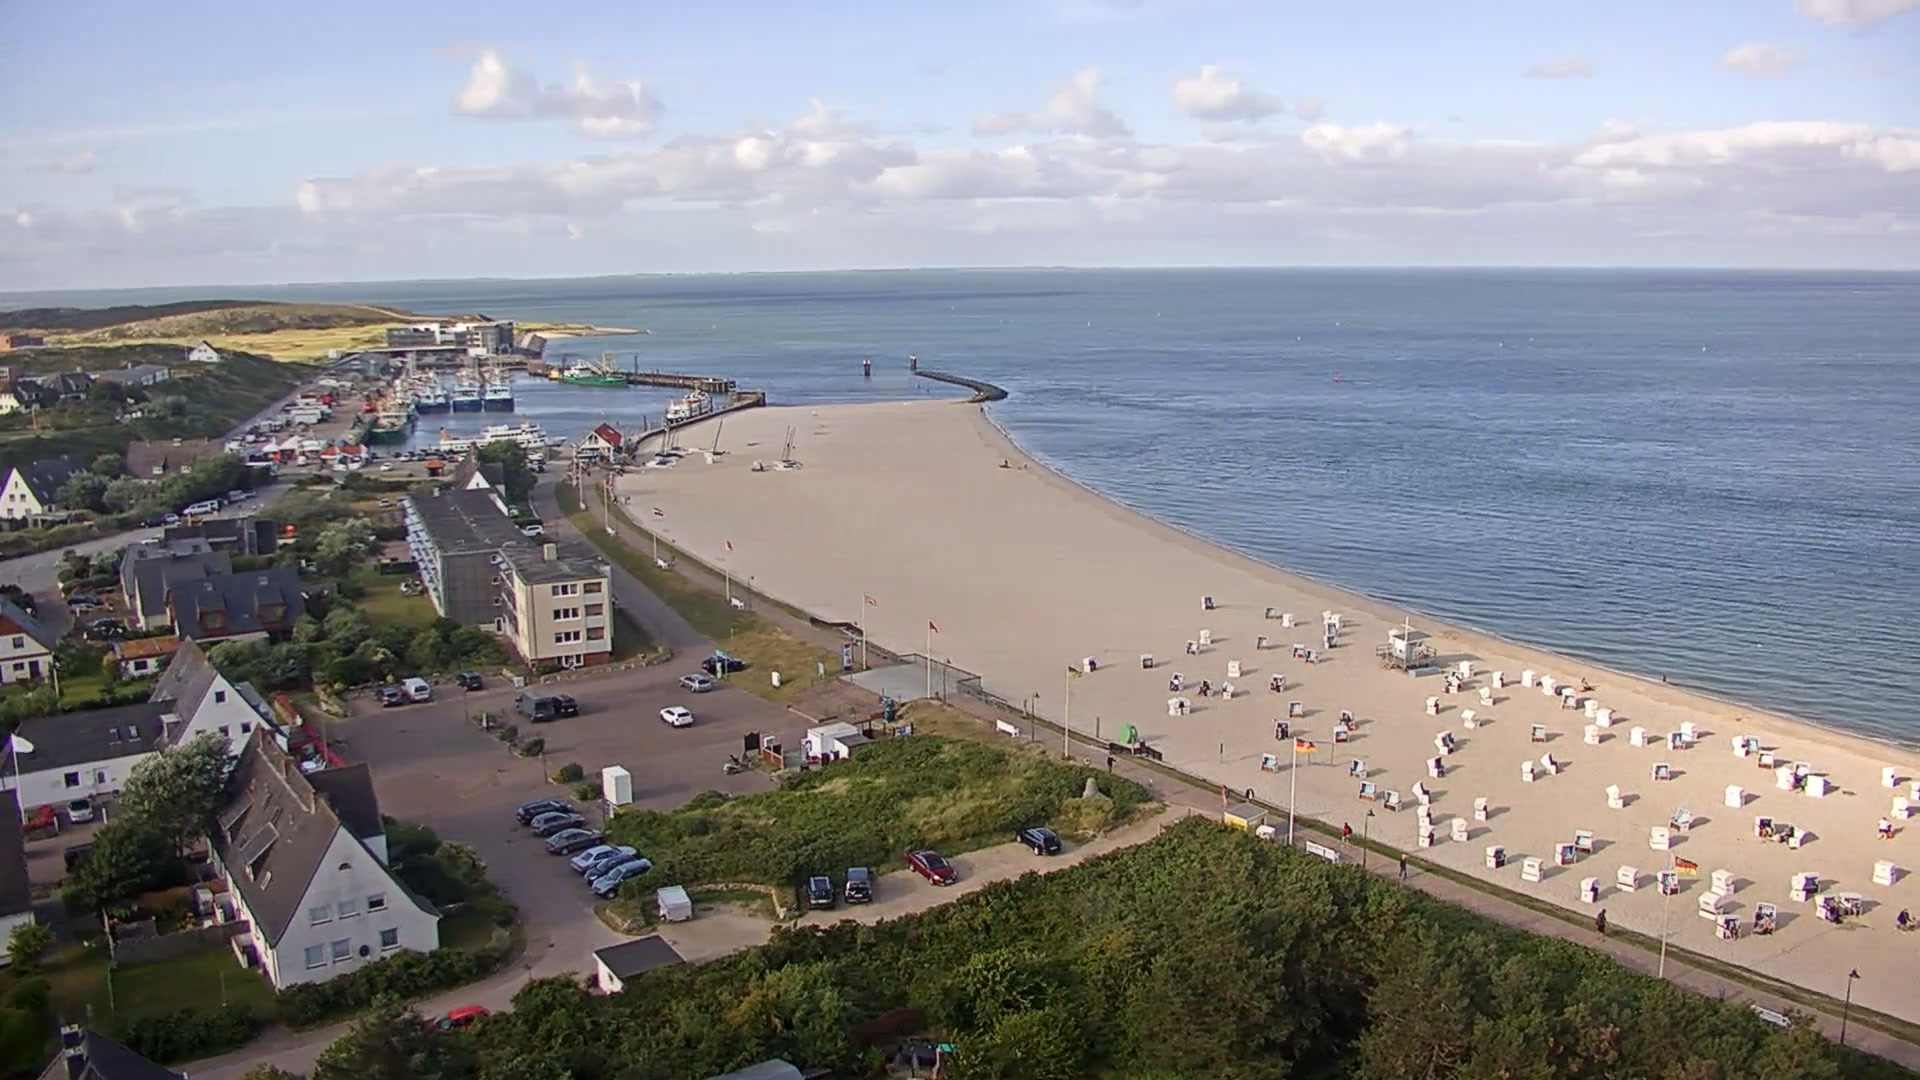human: (1595, 905, 1607, 941), (1878, 815, 1891, 840), (1778, 824, 1795, 843), (1341, 820, 1353, 847), (1753, 903, 1764, 930), (1897, 906, 1911, 930), (1765, 911, 1776, 935), (1399, 852, 1408, 879), (1760, 818, 1773, 836), (1127, 723, 1138, 744), (1244, 786, 1255, 804), (1220, 784, 1229, 808), (1105, 753, 1116, 773), (1197, 678, 1208, 696), (1730, 918, 1739, 939), (1171, 672, 1180, 690), (1909, 915, 1919, 932), (1580, 675, 1589, 690), (1662, 674, 1667, 685)
land: (590, 857, 653, 899), (568, 843, 636, 874), (426, 1003, 489, 1035), (907, 849, 957, 886), (545, 827, 605, 856), (529, 810, 584, 838), (515, 799, 574, 825), (582, 854, 632, 885), (1014, 827, 1061, 856), (514, 690, 554, 722), (802, 875, 835, 910), (844, 865, 872, 903), (659, 704, 693, 728), (399, 676, 430, 703), (65, 594, 104, 612), (66, 797, 93, 823), (550, 693, 580, 718), (701, 654, 743, 671), (678, 673, 711, 693), (374, 686, 402, 708), (455, 670, 483, 691), (86, 617, 124, 632), (182, 501, 211, 514), (136, 516, 163, 528), (520, 523, 544, 536), (226, 489, 244, 503), (160, 512, 179, 523), (198, 499, 218, 510), (296, 455, 308, 467), (243, 488, 256, 498), (381, 461, 393, 472), (351, 454, 361, 463), (399, 454, 409, 463), (458, 453, 467, 462), (415, 451, 424, 459), (418, 453, 427, 461), (371, 451, 379, 459), (435, 449, 443, 456), (419, 448, 428, 455), (448, 455, 456, 462), (395, 450, 402, 457), (447, 451, 455, 458), (407, 450, 414, 456), (438, 452, 445, 459), (448, 447, 455, 453), (434, 448, 441, 454)
sea: (435, 418, 568, 451), (561, 351, 628, 388), (665, 387, 711, 425), (369, 410, 410, 443), (415, 383, 449, 414), (450, 383, 482, 414), (483, 383, 515, 413), (710, 420, 727, 457), (783, 426, 796, 469), (780, 424, 792, 462), (664, 422, 677, 458), (669, 426, 684, 452), (654, 422, 666, 456)
